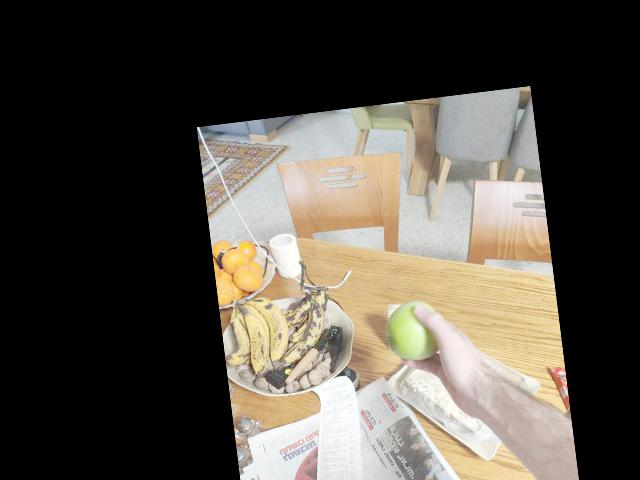apple: (384, 293, 451, 369)
